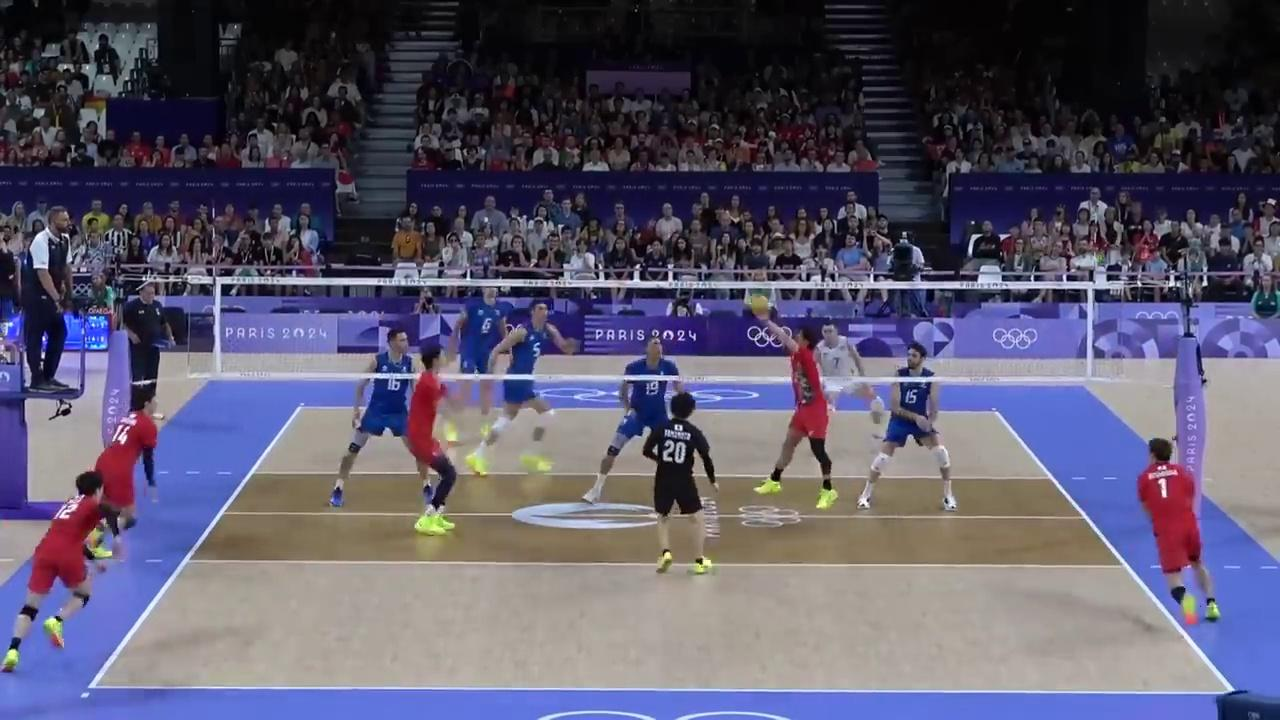ball: (750, 297, 771, 319)
